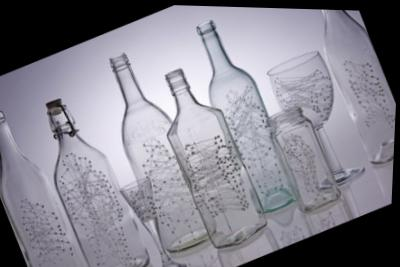glass: (19, 99, 169, 266), (147, 69, 265, 252), (110, 54, 209, 260), (197, 21, 295, 212), (267, 51, 367, 192), (0, 108, 87, 266), (320, 11, 395, 173), (272, 107, 338, 211)
